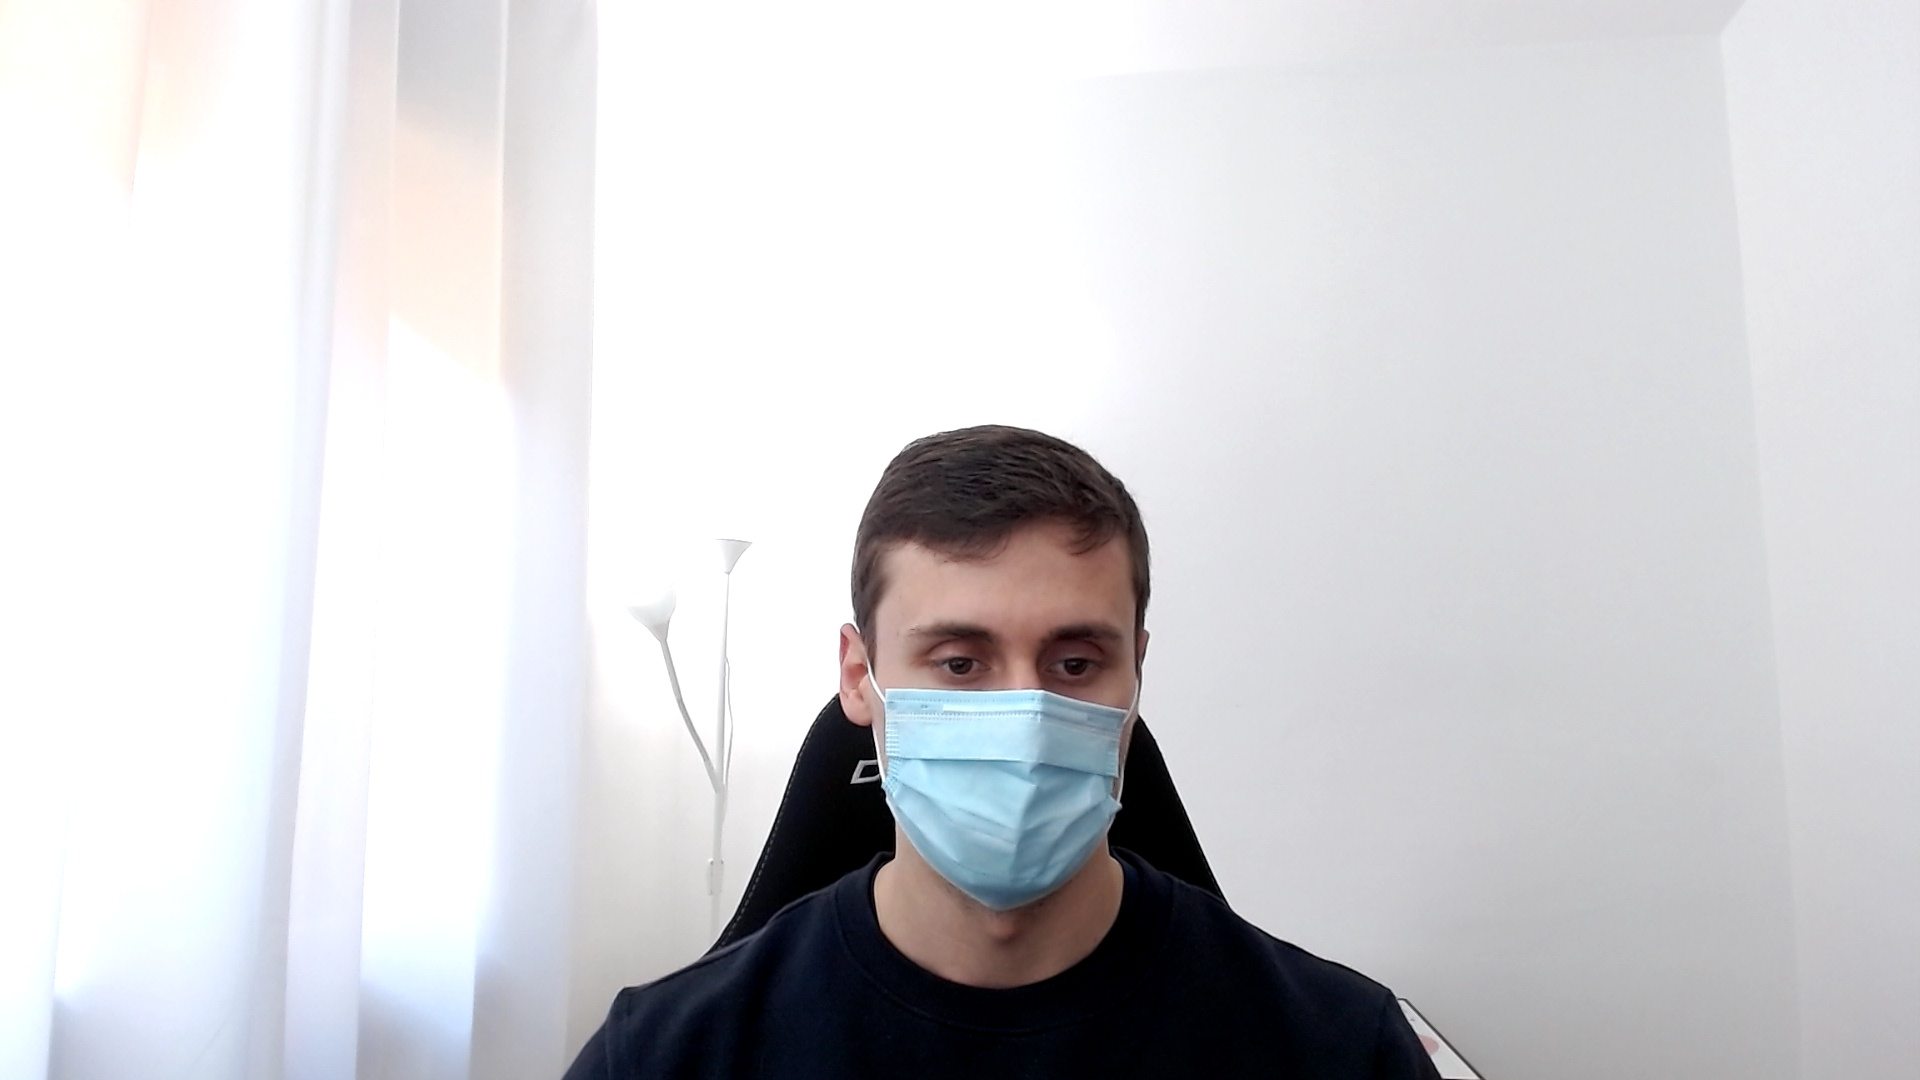Mask: (839, 425, 1153, 914)
